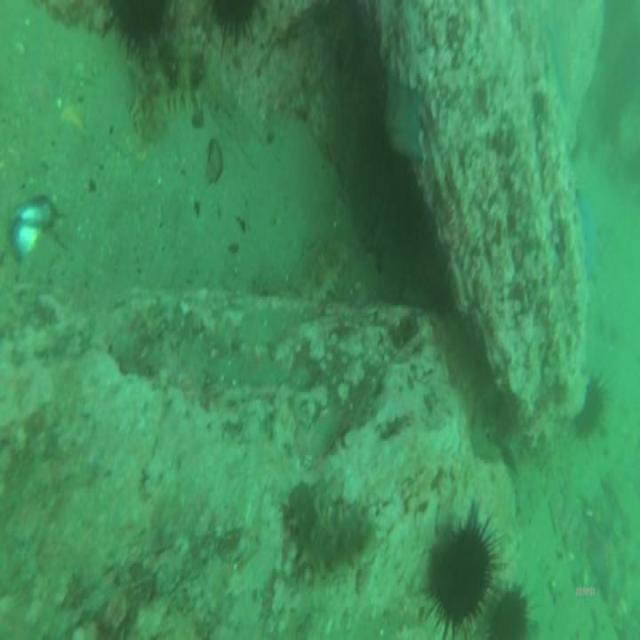echinus: (424, 501, 500, 640), (101, 0, 176, 58), (201, 0, 264, 44), (490, 581, 534, 640), (573, 373, 608, 441)
holothurian: (284, 478, 378, 586), (129, 22, 210, 146), (285, 231, 353, 305)
starfish: (384, 71, 424, 169), (586, 512, 628, 605), (541, 9, 575, 114), (574, 185, 604, 299)
